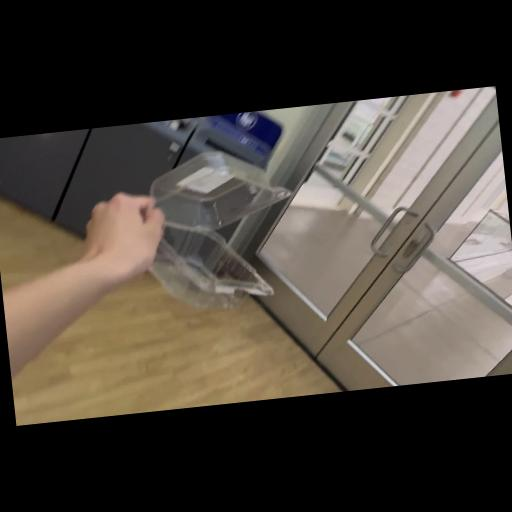small_plastic_container: (128, 143, 308, 325)
